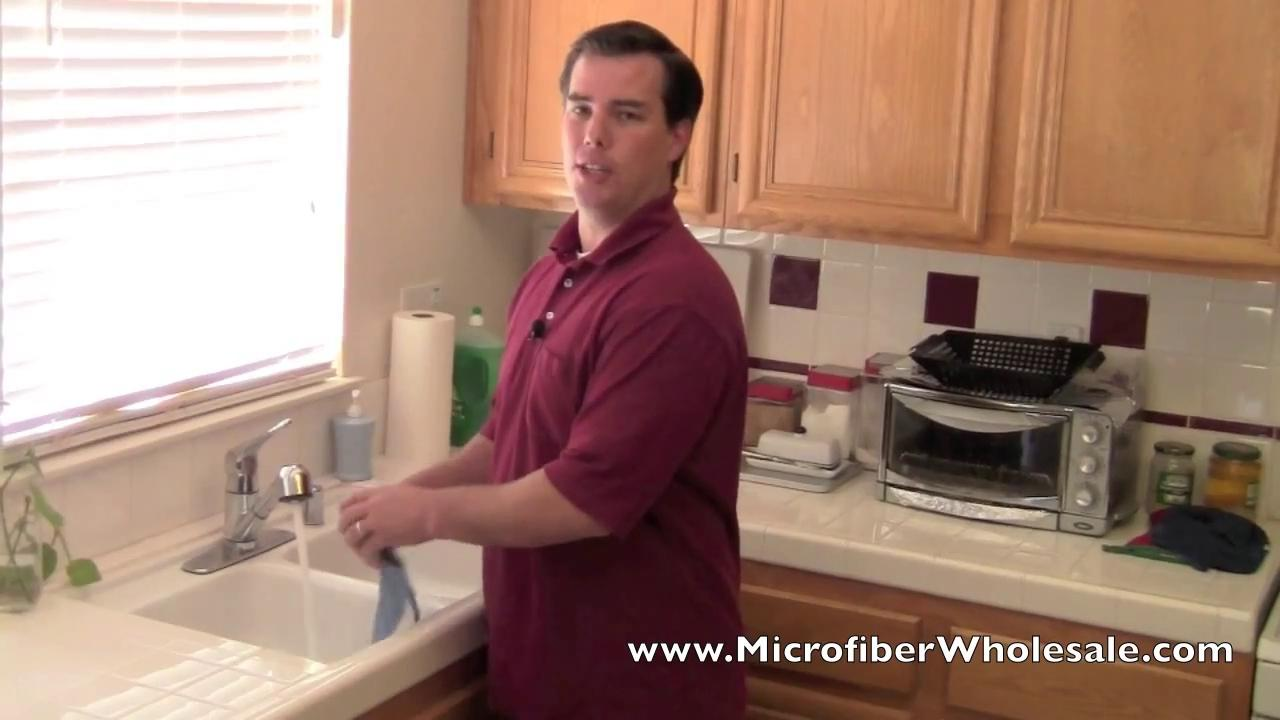victim: (337, 16, 766, 717)
